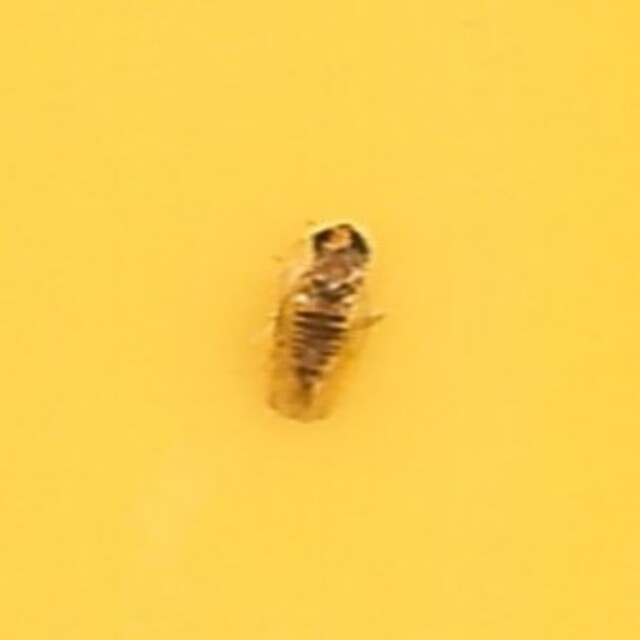Hemiptera: (256, 213, 384, 427)
